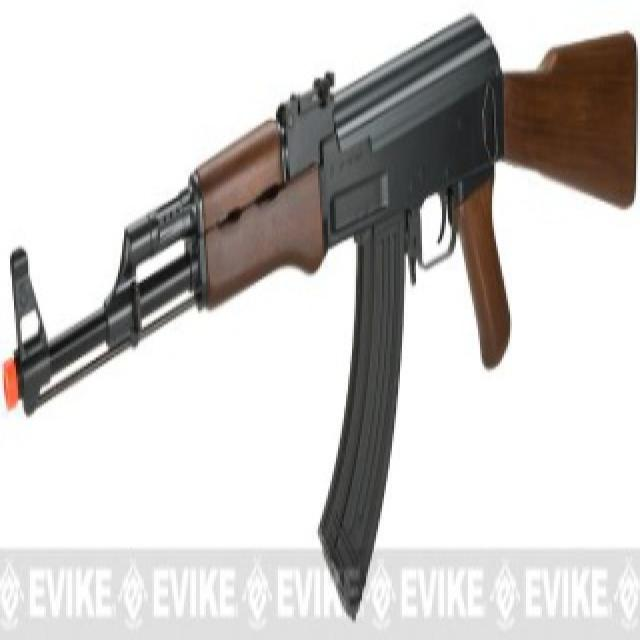rifle: (1, 8, 635, 492)
